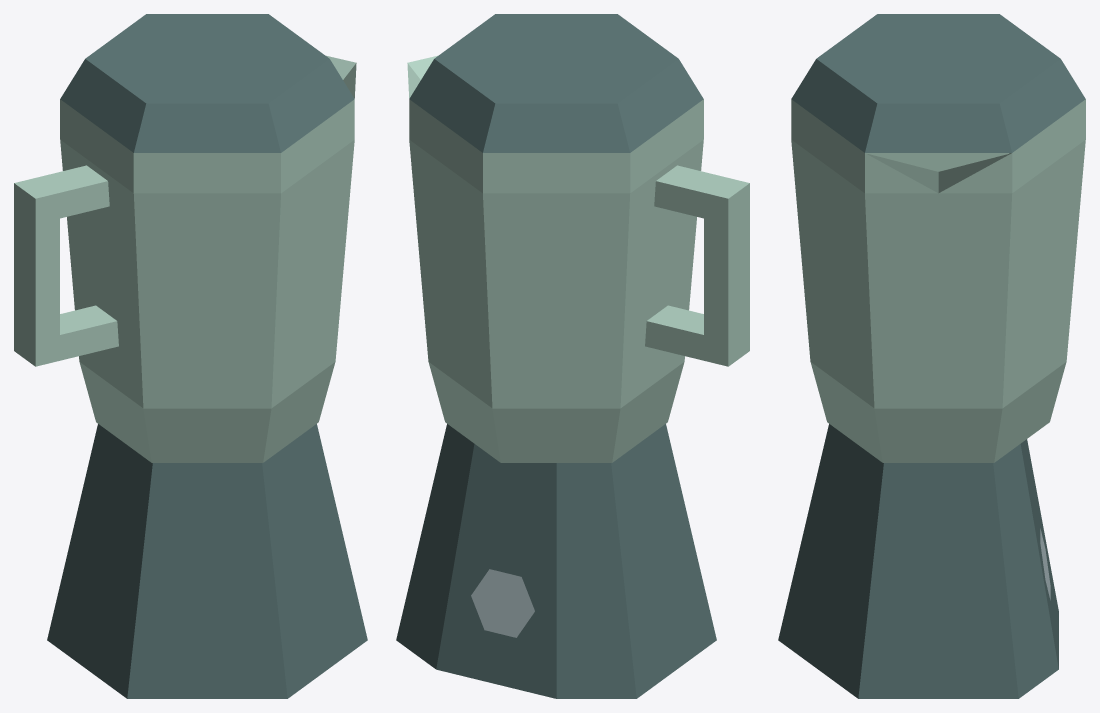
The model's file is Kitchen Blender.glb.
The picture shows the model from 3 angles, left to right: view 1: azimuth 30°, elevation 25°; view 2: azimuth 150°, elevation 25°; view 3: azimuth 270°, elevation 25°; orthographic projection.
Visible parts, largest first — view 1: blenderCup, kitchenBlender, blenderTop; view 2: blenderCup, kitchenBlender, blenderTop; view 3: blenderCup, kitchenBlender, blenderTop.
Part boxes in pixels (box(x1,y1,x2,y2)): blenderCup: box(14, 55, 356, 462); kitchenBlender: box(47, 424, 367, 698); blenderTop: box(60, 14, 354, 152); blenderCup: box(407, 55, 749, 462); kitchenBlender: box(396, 424, 716, 698); blenderTop: box(409, 14, 703, 152); blenderCup: box(791, 99, 1085, 462); kitchenBlender: box(778, 424, 1058, 698); blenderTop: box(791, 14, 1085, 152).
Size of the model in its own units: 0.1358 by 0.2275 by 0.1091.
